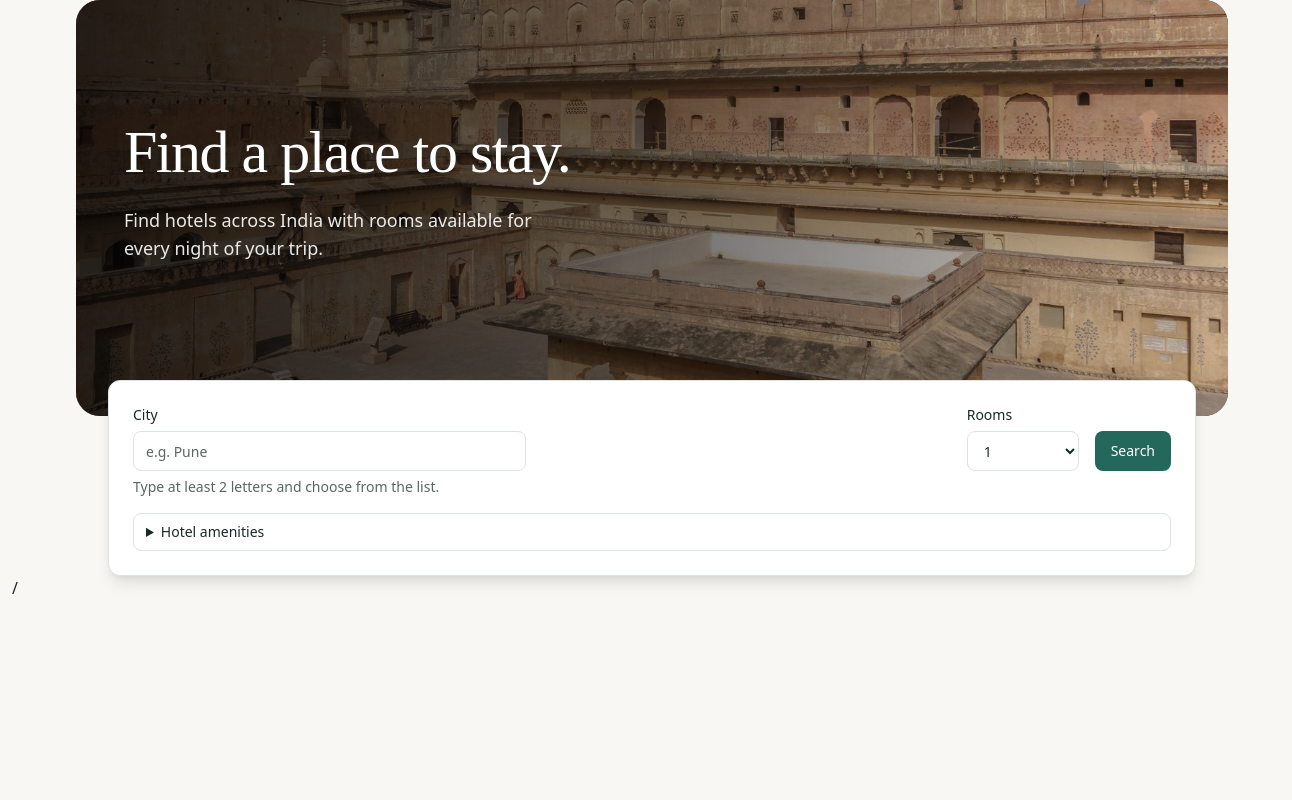
Test: the search form › asks for a city before searching
Click the button "Search" at (1133,451), box [1095,431,1171,471]
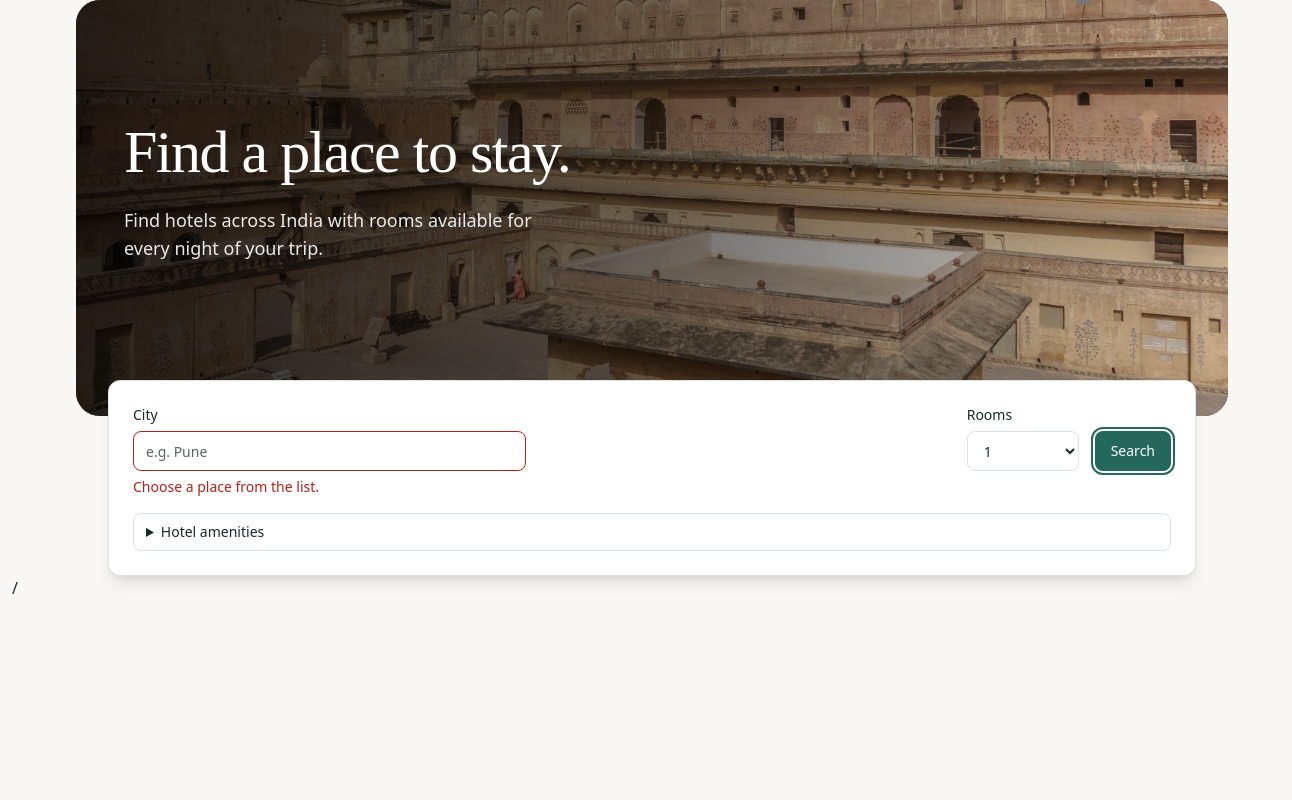
Expected: the text with test id "where" reads "/", [12,577,18,599]
Result: the text "Choose a place from the list." is shown at [133,477,319,496]
